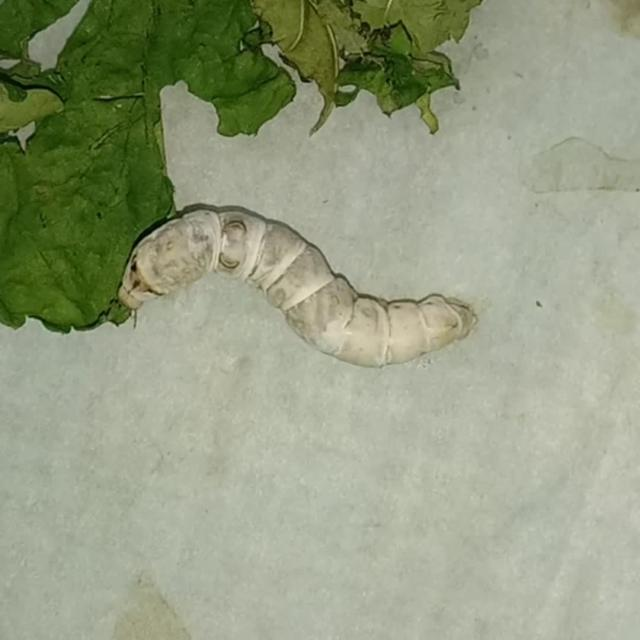Grasserie: (100, 181, 518, 406)
